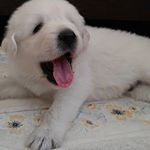puppy: (1, 1, 94, 150)
